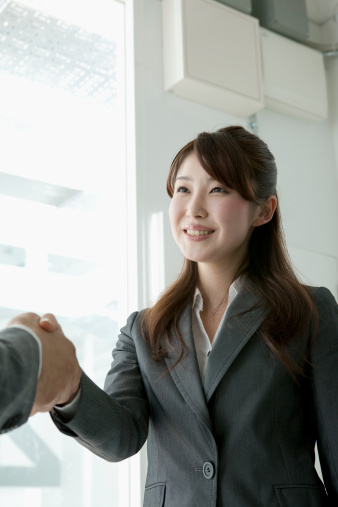em pe: (48, 105, 338, 507)
